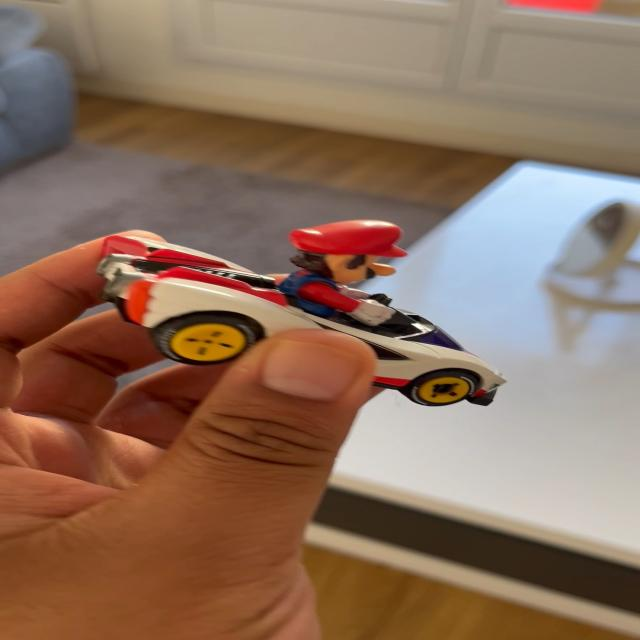mario: (134, 214, 536, 424)
